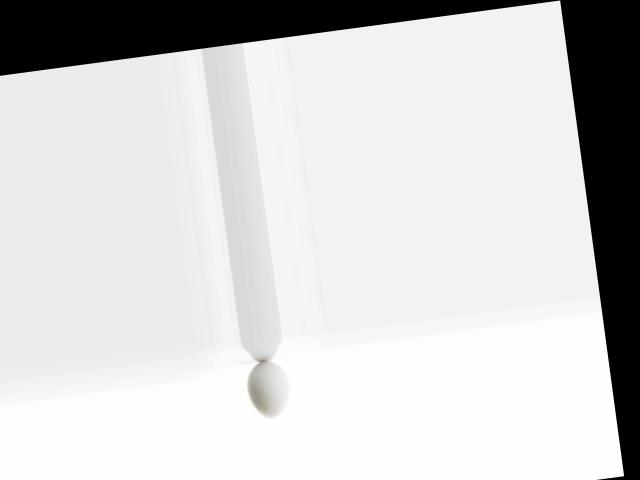egg: (244, 358, 292, 420)
